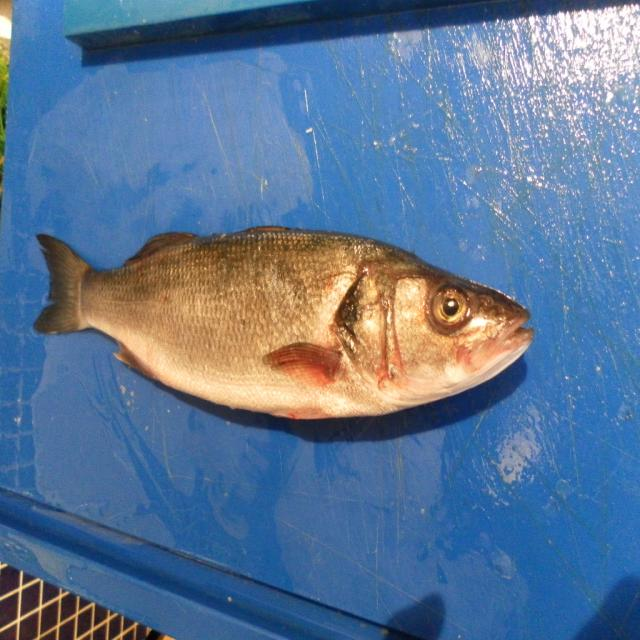Sea-Bass-levrek-: (32, 225, 536, 423)
